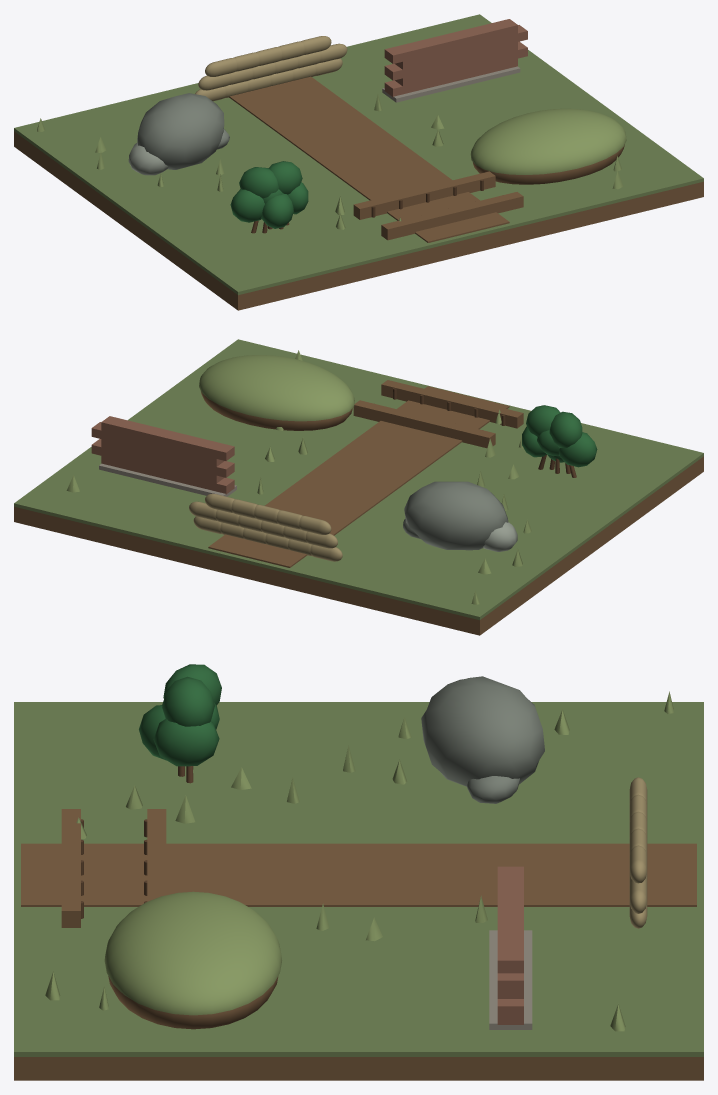
File: 03_gdqp_dia_hinh_dia_vat.glb
The picture shows the model from 3 angles, top to bottom: view 1: azimuth 30°, elevation 25°; view 2: azimuth 150°, elevation 25°; view 3: azimuth 270°, elevation 25°; orthographic projection. The views are drawn at different scales.
Visible parts, largest first — view 1: Mat_Co, Duong_Dat, Nen_Dat, Phu_Co_Mo_Dat, Da_Chinh, Thanh_Hao_Phai, Thanh_Hao_Trai, Mo_Dat_Chinh, Mong_Tuong, Tan_La_4, Tan_La_1, Tan_La_6 (+2 smaller); view 2: Mat_Co, Duong_Dat, Nen_Dat, Phu_Co_Mo_Dat, Da_Chinh, Thanh_Hao_Trai, Thanh_Hao_Phai, Mo_Dat_Chinh, Tan_La_4, Mong_Tuong, Tan_La_1, Tan_La_5 (+2 smaller); view 3: Mat_Co, Duong_Dat, Phu_Co_Mo_Dat, Nen_Dat, Da_Chinh, Tan_La_3, Thanh_Hao_Phai, Mo_Dat_Chinh, Tan_La_5, Mong_Tuong, Thanh_Hao_Trai, Da_Phu_2 (+3 smaller).
Boxes of the visible parts, x1=… form: Mat_Co: x1=14, y1=14, x2=703, y2=295; Duong_Dat: x1=229, y1=76, x2=509, y2=242; Nen_Dat: x1=14, y1=131, x2=703, y2=310; Phu_Co_Mo_Dat: x1=470, y1=108, x2=626, y2=174; Da_Chinh: x1=137, y1=93, x2=224, y2=169; Thanh_Hao_Phai: x1=381, y1=192, x2=523, y2=240; Thanh_Hao_Trai: x1=353, y1=171, x2=495, y2=219; Mo_Dat_Chinh: x1=473, y1=144, x2=624, y2=184; Mong_Tuong: x1=382, y1=66, x2=520, y2=102; Tan_La_4: x1=239, y1=167, x2=278, y2=198; Tan_La_1: x1=230, y1=189, x2=264, y2=222; Tan_La_6: x1=261, y1=194, x2=293, y2=228; Mat_Co: x1=14, y1=339, x2=703, y2=620; Duong_Dat: x1=208, y1=386, x2=509, y2=567; Nen_Dat: x1=14, y1=456, x2=703, y2=635; Phu_Co_Mo_Dat: x1=199, y1=355, x2=354, y2=421; Da_Chinh: x1=404, y1=481, x2=508, y2=550; Thanh_Hao_Trai: x1=353, y1=400, x2=495, y2=448; Thanh_Hao_Phai: x1=381, y1=380, x2=523, y2=428; Mo_Dat_Chinh: x1=201, y1=391, x2=352, y2=430; Tan_La_4: x1=549, y1=411, x2=582, y2=448; Mong_Tuong: x1=99, y1=463, x2=236, y2=496; Tan_La_1: x1=559, y1=432, x2=597, y2=467; Tan_La_5: x1=526, y1=405, x2=560, y2=436; Mat_Co: x1=14, y1=702, x2=703, y2=1056; Duong_Dat: x1=21, y1=843, x2=696, y2=906; Phu_Co_Mo_Dat: x1=104, y1=891, x2=281, y2=1015; Nen_Dat: x1=14, y1=1057, x2=703, y2=1080; Da_Chinh: x1=421, y1=676, x2=544, y2=786; Tan_La_3: x1=153, y1=718, x2=219, y2=766; Thanh_Hao_Phai: x1=61, y1=809, x2=80, y2=927; Mo_Dat_Chinh: x1=108, y1=976, x2=278, y2=1029; Tan_La_5: x1=162, y1=676, x2=214, y2=726; Mong_Tuong: x1=489, y1=930, x2=532, y2=1029; Thanh_Hao_Trai: x1=147, y1=809, x2=166, y2=901; Da_Phu_2: x1=467, y1=776, x2=519, y2=803.
Size of the model in its own units: 12 by 2.04 by 10.
